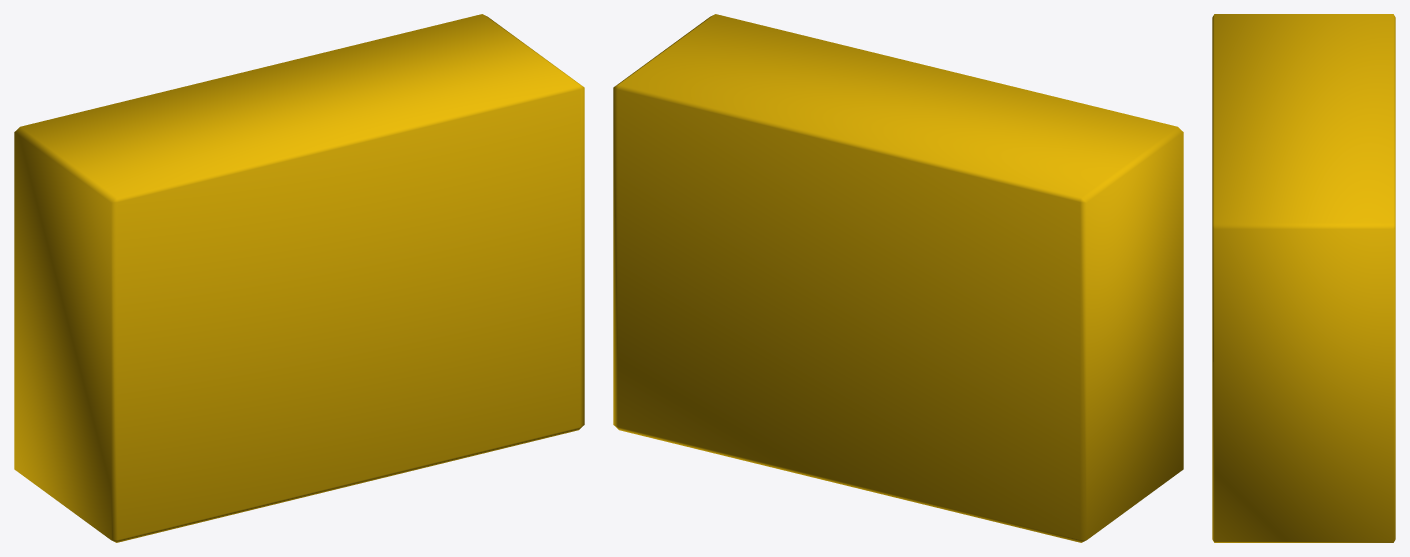
Rendered from SaponettaVaniglia.fbx.
3 views of the same model, side by side, from view 1: azimuth 30°, elevation 25°; view 2: azimuth 150°, elevation 25°; view 3: azimuth 270°, elevation 25° (orthographic). The views are drawn at different scales.
Parts seen in each view (by area): view 1: Saponetta.003; view 2: Saponetta.003; view 3: Saponetta.003.
Part boxes in pixels (box(x1,y1,x2,y2)): Saponetta.003: box(14, 14, 584, 542); Saponetta.003: box(613, 14, 1183, 542); Saponetta.003: box(1212, 14, 1395, 542).
Size of the model in its own units: 468 by 326 by 169.
